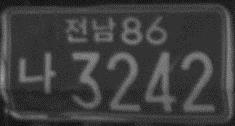2: (105, 49, 142, 114), (180, 49, 215, 114)
3: (70, 49, 102, 111)
4: (144, 49, 179, 112)
6: (144, 15, 168, 46)
8: (118, 15, 143, 46)
나: (16, 49, 57, 96)
전남_O: (64, 16, 116, 44)
